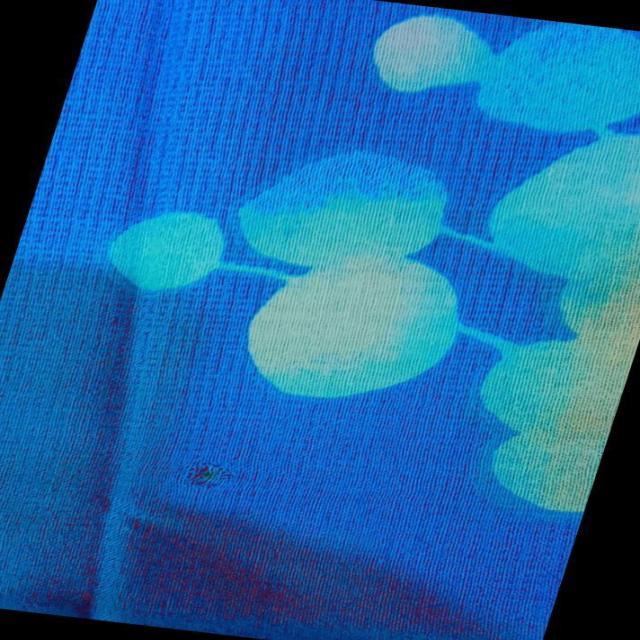cut: (139, 442, 257, 500)
